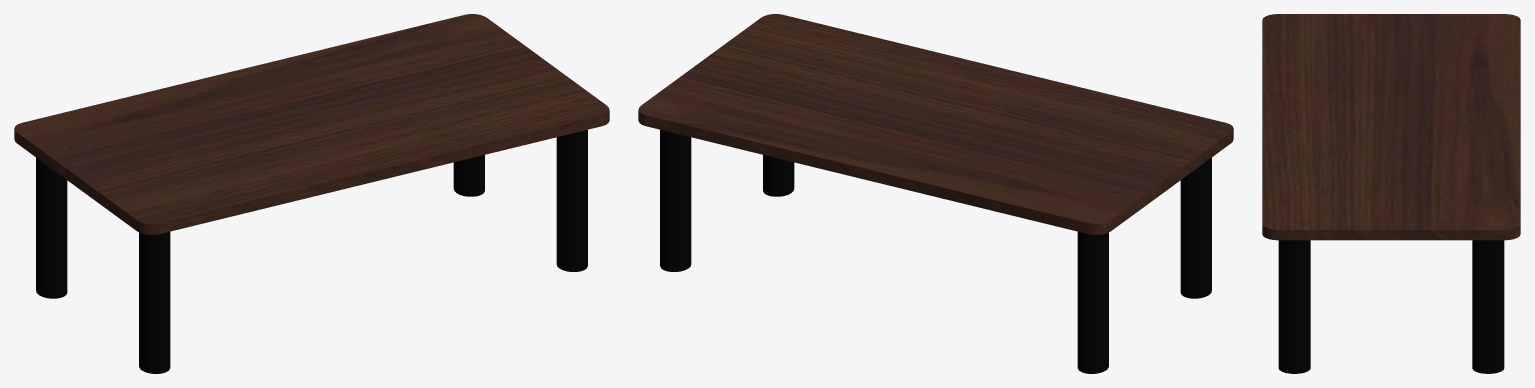
The model's file is V2Table.dae.
The picture shows the model from 3 angles, left to right: view 1: azimuth 30°, elevation 25°; view 2: azimuth 150°, elevation 25°; view 3: azimuth 270°, elevation 25°; orthographic projection. The views are drawn at different scales.
Parts seen in each view (by area): view 1: Cube; view 2: Cube; view 3: Cube.
Part boxes in pixels (left/top/right/bottom): Cube: left=14, top=14, right=609, bottom=373; Cube: left=638, top=14, right=1233, bottom=373; Cube: left=1262, top=14, right=1520, bottom=373.
Size of the model in its own units: 3.31 by 1.68 by 1.07.
Materials: 2 (1 with a texture image).
